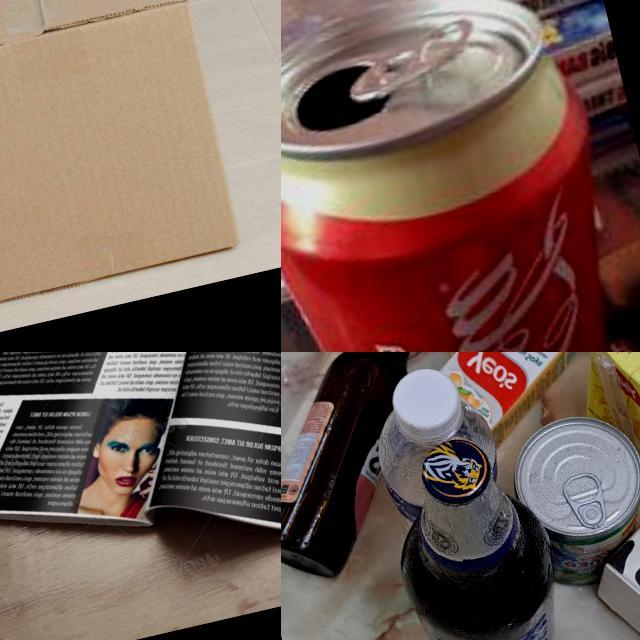aba de lata: (336, 12, 484, 104), (566, 472, 609, 530)
caixinha: (560, 430, 640, 640), (565, 352, 640, 489)
garrafa de vidro: (281, 352, 488, 589), (373, 424, 573, 640)
garrafa plástica: (374, 400, 512, 546), (281, 352, 416, 465)
lata: (281, 0, 640, 352), (509, 406, 640, 591)
papel: (0, 352, 281, 640)
papelão: (0, 0, 243, 314)
